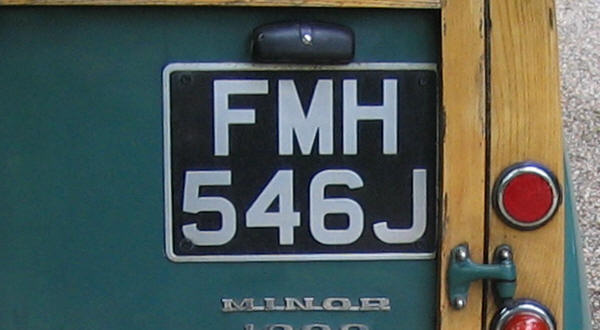license_plate: (163, 63, 439, 261)
